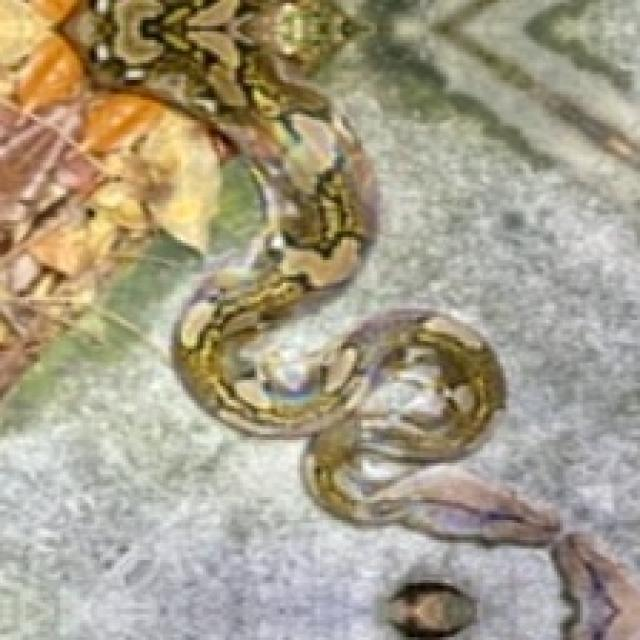reticulated python: (60, 0, 640, 639)
